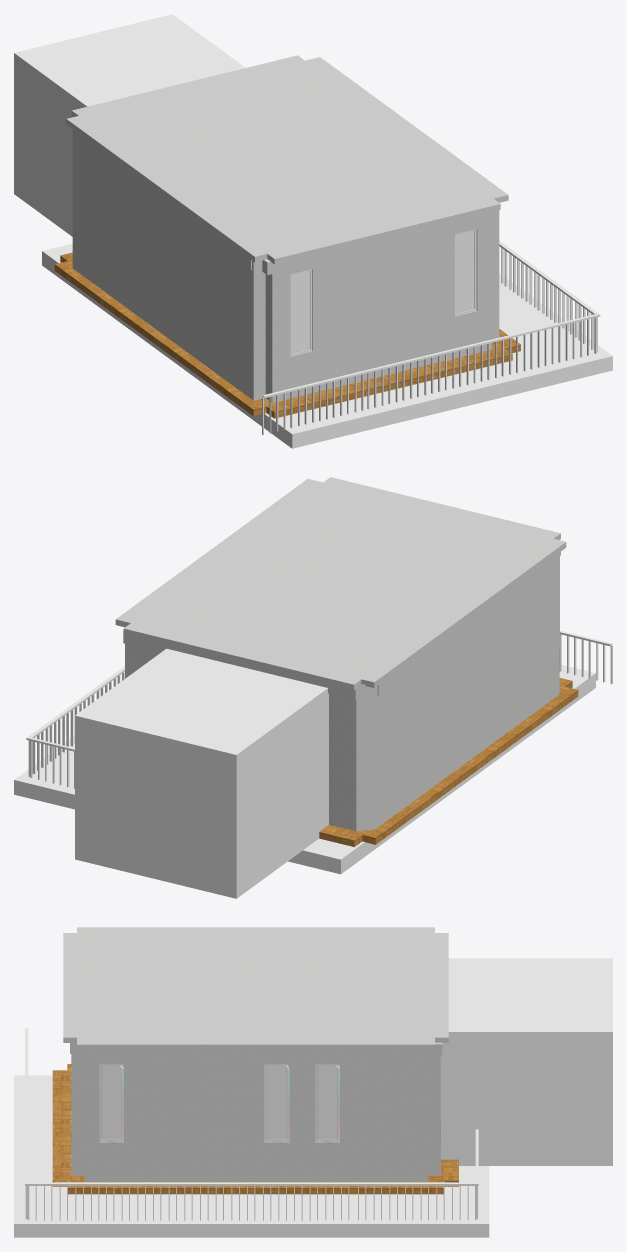
The model's file is FloorPlan204_physics.fbx.
The picture shows the model from 3 angles, top to bottom: view 1: azimuth 30°, elevation 25°; view 2: azimuth 150°, elevation 25°; view 3: azimuth 270°, elevation 25°; orthographic projection. The views are drawn at different scales.
Visible parts, largest first — view 1: FP204:Ceiling.000, FP204:Room.002, FP204:Cube.819, FP204:polySurface50, FP204:Cube.818, FP204:polySurface51, FP204:Floor.001, FP204:Room.006, FP204:Room.005, FP204:polySurface15, FP204:polySurface12; view 2: FP204:Ceiling.000, FP204:polySurface51, FP204:Room.002, FP204:polySurface50, FP204:Cube.819, FP204:Floor.001, FP204:Cube.818, FP204:Room.005, FP204:Room.007; view 3: FP204:Ceiling.000, FP204:Room.002, FP204:Cube.819, FP204:polySurface51, FP204:polySurface50, FP204:Floor.001, FP204:Cube.818, FP204:Room.008, FP204:polySurface52, FP204:polySurface54, FP204:polySurface53.
Boxes of the visible parts, x1=… form: FP204:Ceiling.000: x1=66, y1=55, x2=508, y2=264; FP204:Room.002: x1=72, y1=129, x2=499, y2=402; FP204:Cube.819: x1=42, y1=243, x2=612, y2=448; FP204:polySurface50: x1=14, y1=14, x2=245, y2=106; FP204:Cube.818: x1=262, y1=241, x2=600, y2=435; FP204:polySurface51: x1=14, y1=53, x2=86, y2=236; FP204:Floor.001: x1=54, y1=252, x2=520, y2=418; FP204:Room.006: x1=262, y1=211, x2=495, y2=275; FP204:Room.005: x1=74, y1=130, x2=251, y2=269; FP204:polySurface15: x1=292, y1=271, x2=309, y2=352; FP204:polySurface12: x1=456, y1=231, x2=473, y2=312; FP204:Ceiling.000: x1=115, y1=477, x2=566, y2=690; FP204:polySurface51: x1=75, y1=688, x2=328, y2=898; FP204:Room.002: x1=125, y1=552, x2=559, y2=831; FP204:polySurface50: x1=75, y1=648, x2=327, y2=754; FP204:Cube.819: x1=14, y1=665, x2=595, y2=874; FP204:Floor.001: x1=319, y1=678, x2=578, y2=846; FP204:Cube.818: x1=26, y1=630, x2=612, y2=788; FP204:Room.005: x1=377, y1=553, x2=558, y2=695; FP204:Room.007: x1=123, y1=630, x2=356, y2=699; FP204:Ceiling.000: x1=63, y1=927, x2=448, y2=1049; FP204:Room.002: x1=71, y1=1050, x2=440, y2=1181; FP204:Cube.819: x1=14, y1=1075, x2=489, y2=1237; FP204:polySurface51: x1=440, y1=1032, x2=612, y2=1165; FP204:polySurface50: x1=448, y1=958, x2=612, y2=1031; FP204:Floor.001: x1=52, y1=1064, x2=458, y2=1194; FP204:Cube.818: x1=25, y1=1028, x2=478, y2=1220; FP204:Room.008: x1=89, y1=1050, x2=424, y2=1059; FP204:polySurface52: x1=266, y1=1065, x2=285, y2=1138; FP204:polySurface54: x1=102, y1=1065, x2=121, y2=1138; FP204:polySurface53: x1=318, y1=1065, x2=337, y2=1138.
Size of the model in its own units: 732 by 368 by 1164.
